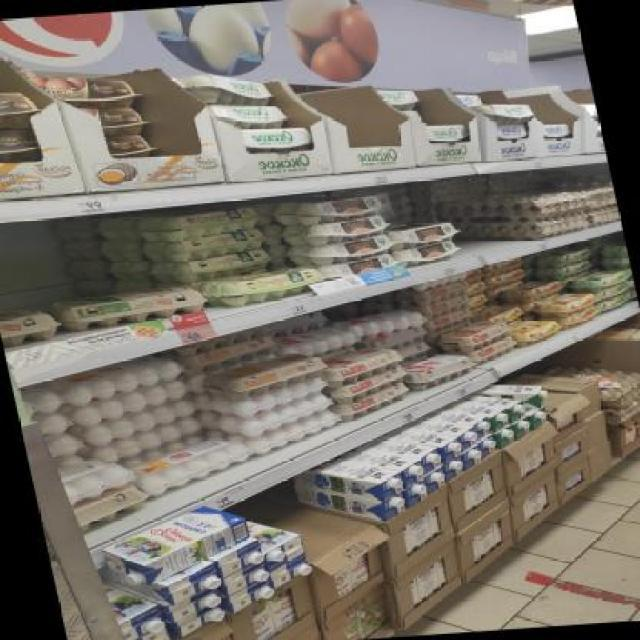egg: (49, 282, 212, 332), (32, 70, 144, 113), (172, 66, 274, 111), (268, 192, 388, 226), (275, 216, 393, 247), (281, 236, 397, 266), (206, 100, 291, 131), (386, 218, 463, 250), (239, 125, 318, 154), (389, 240, 465, 268), (86, 105, 154, 136), (0, 84, 43, 133), (0, 126, 48, 166), (103, 131, 157, 158), (419, 119, 473, 144), (483, 102, 537, 126), (538, 122, 573, 138), (496, 124, 530, 140)
